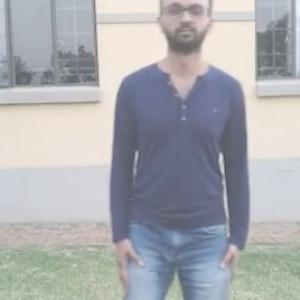follow: (154, 2, 271, 299)
